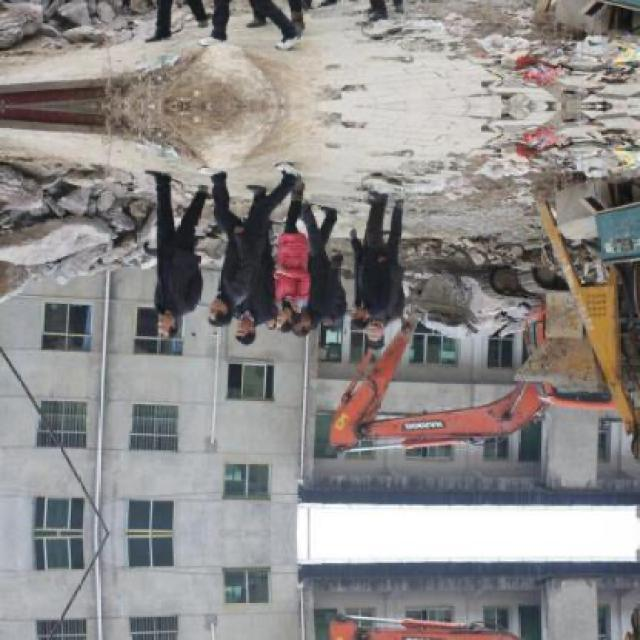sin casco: (118, 299, 184, 350), (185, 276, 240, 327), (348, 304, 392, 362), (210, 306, 262, 354), (256, 285, 304, 329)
